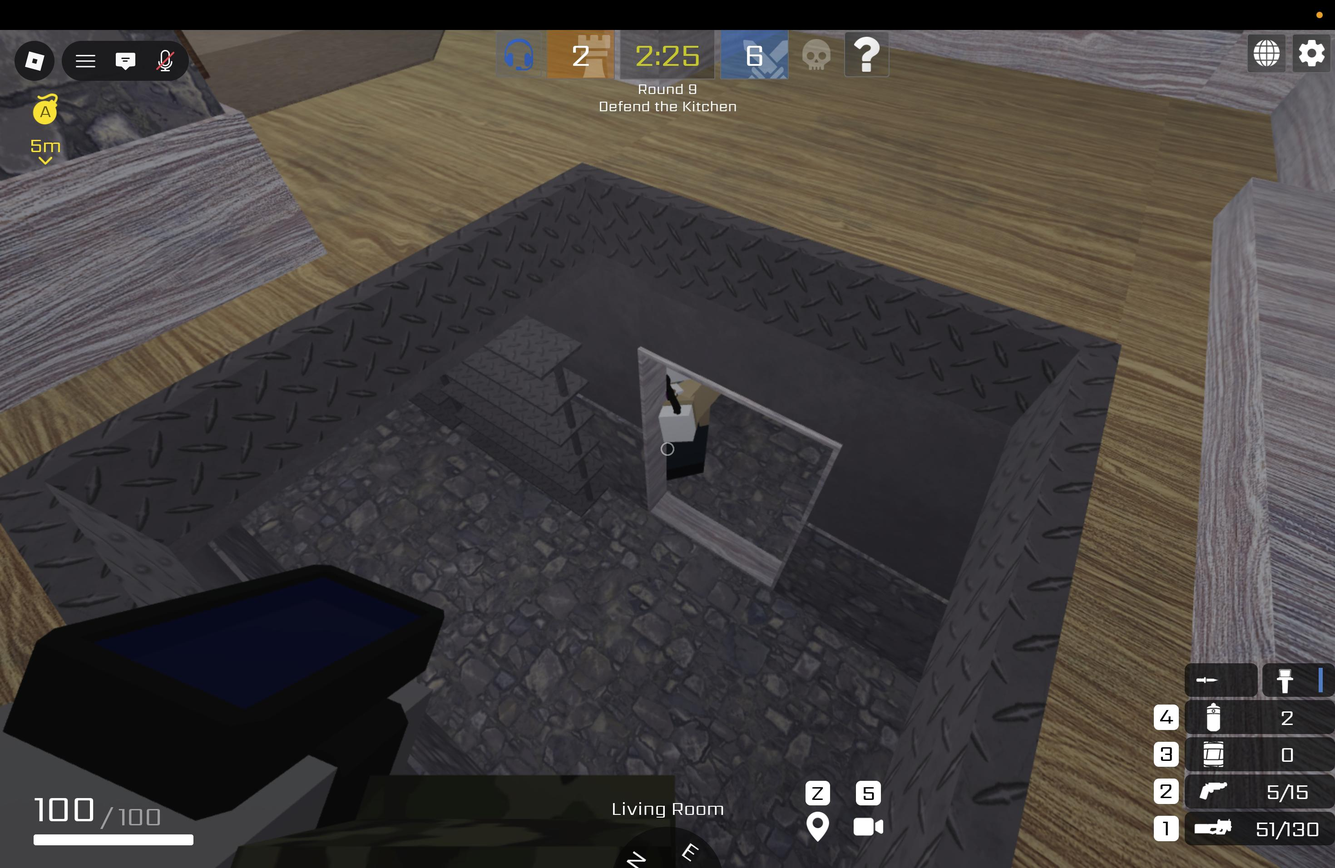enemy: (644, 361, 722, 487)
